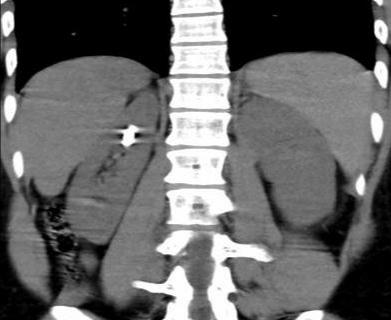Tas_Var: (119, 129, 136, 147), (126, 125, 140, 132)
